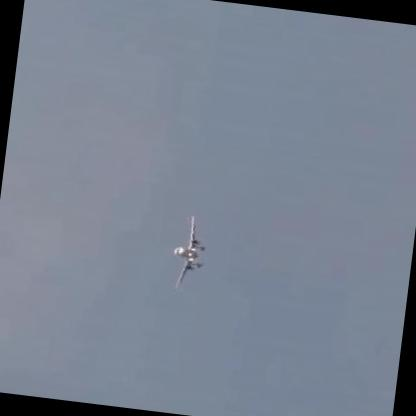plane: (167, 211, 214, 293)
